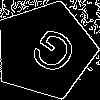G: (20, 25, 82, 85)
